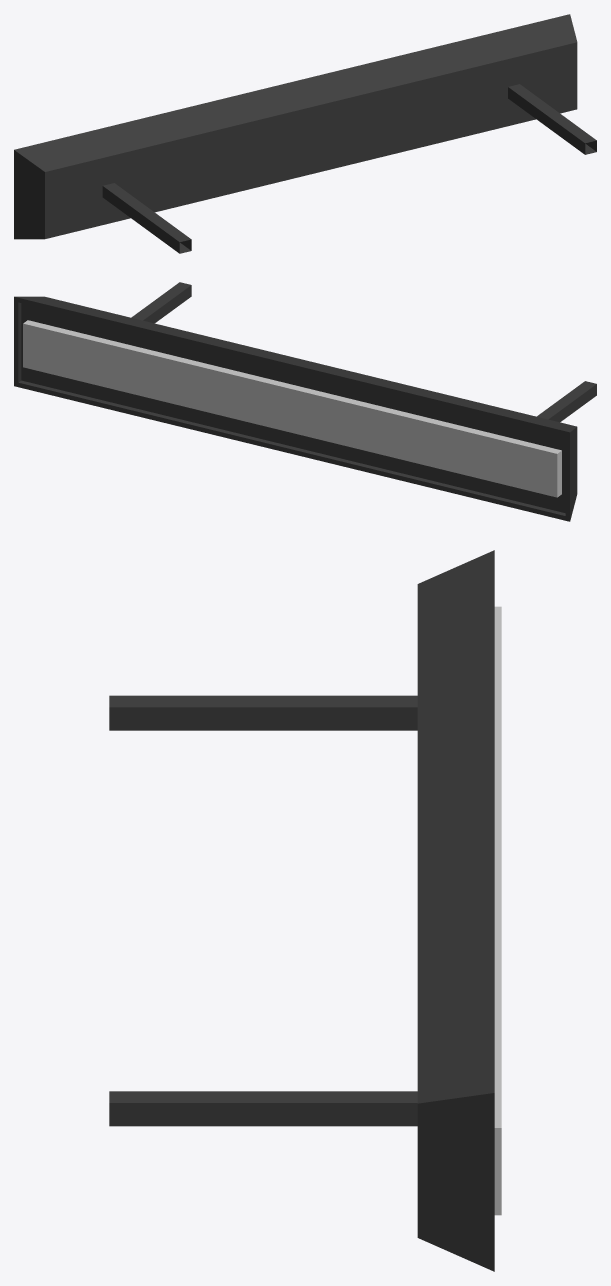
The model's file is Ceiling_Lamp_3.obj.
3 renders of one model, top to bottom at view 1: azimuth 30°, elevation 25°; view 2: azimuth 150°, elevation 25°; view 3: azimuth 270°, elevation 25°, orthographic. The views are drawn at different scales.
Visible parts, largest first — view 1: Ceiling_Lamp_3; view 2: Ceiling_Lamp_3; view 3: Ceiling_Lamp_3.
Part boxes in pixels (x1,y1,x2,y2): Ceiling_Lamp_3: (14, 14, 596, 253); Ceiling_Lamp_3: (14, 282, 596, 521); Ceiling_Lamp_3: (109, 550, 501, 1271).
Bounding box in the file's own units: 1.08 × 0.1657 × 0.3296.
